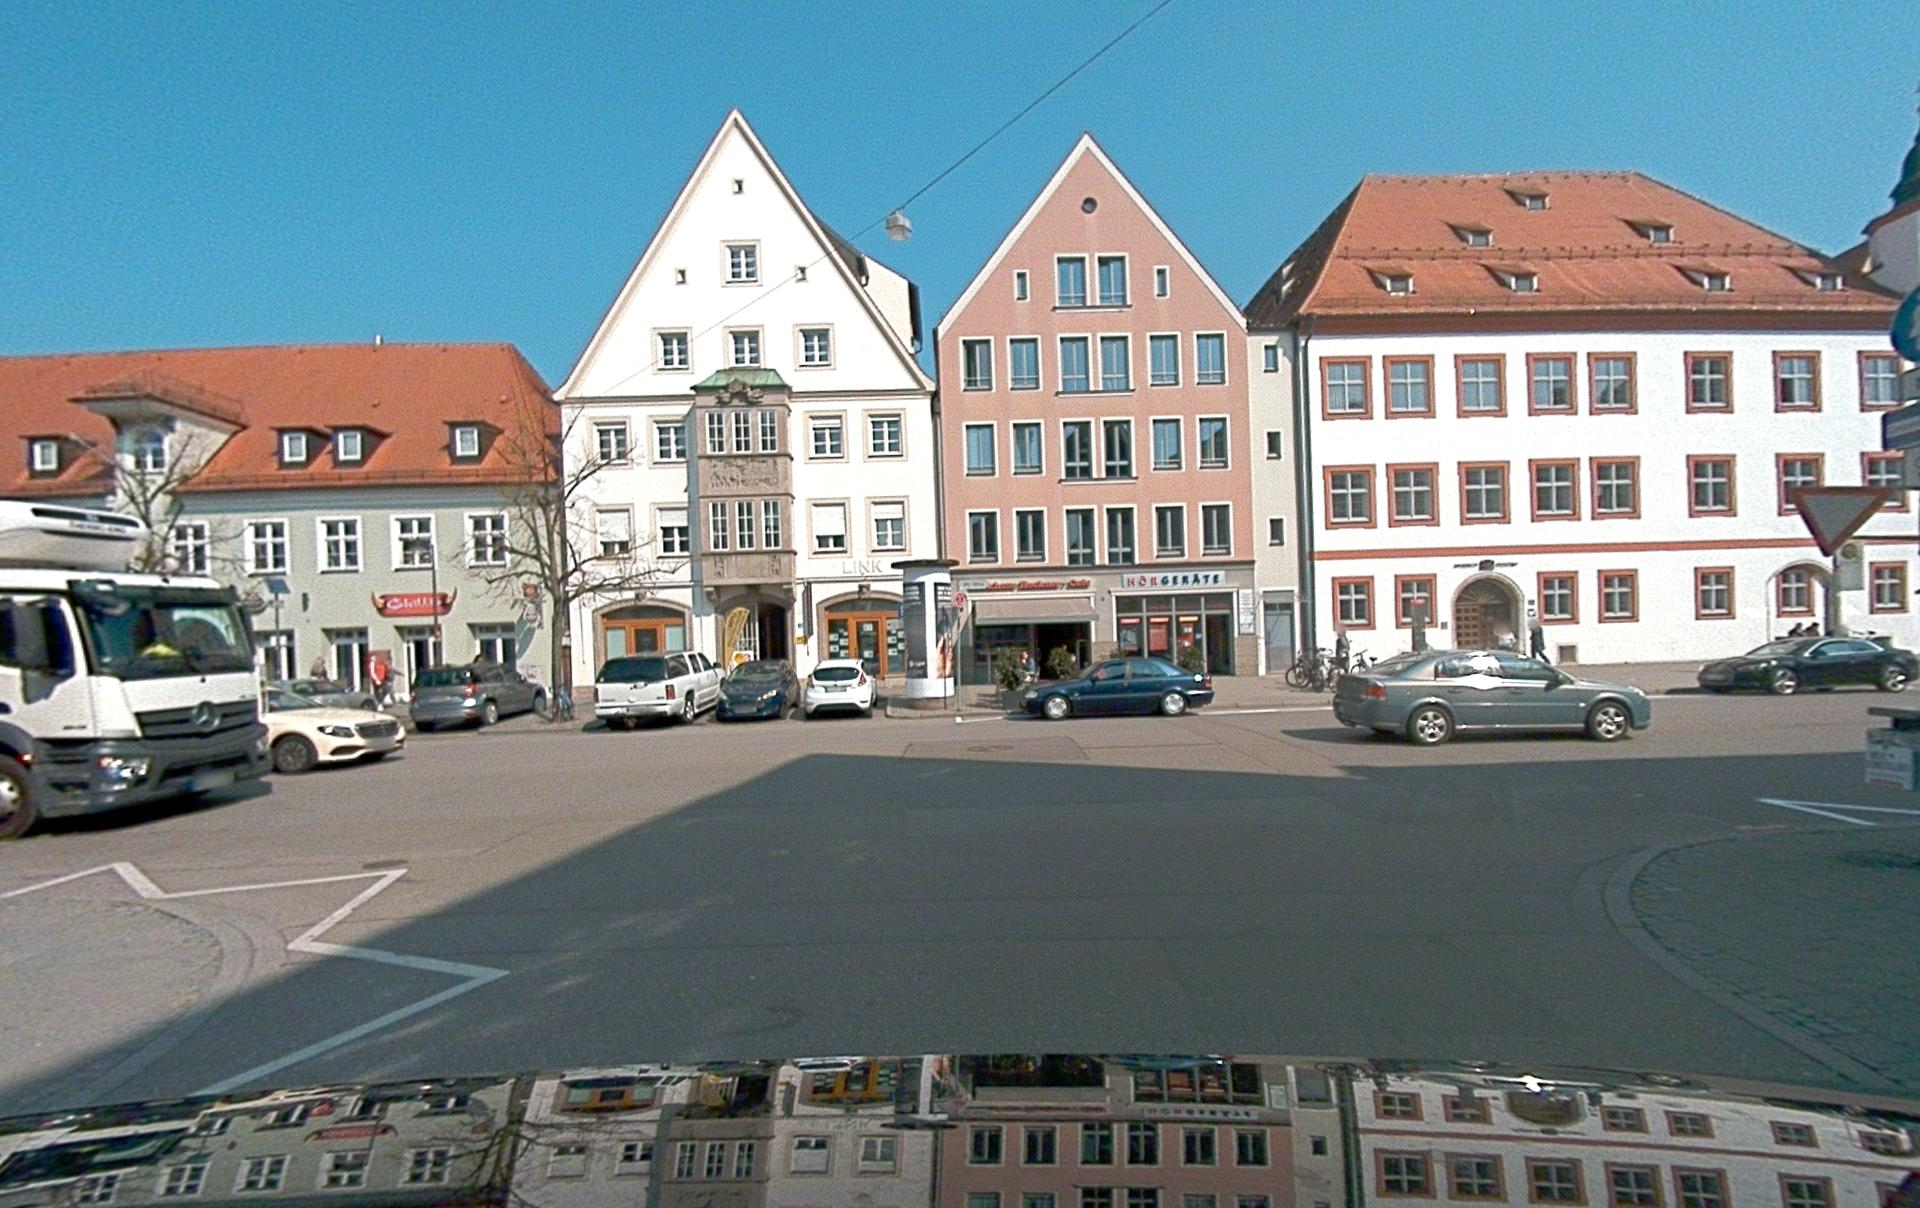car: (1332, 648, 1651, 745), (1697, 635, 1919, 695), (260, 685, 406, 774), (1021, 657, 1215, 720), (409, 663, 548, 731), (715, 659, 799, 721), (803, 659, 876, 718), (269, 677, 381, 712)
